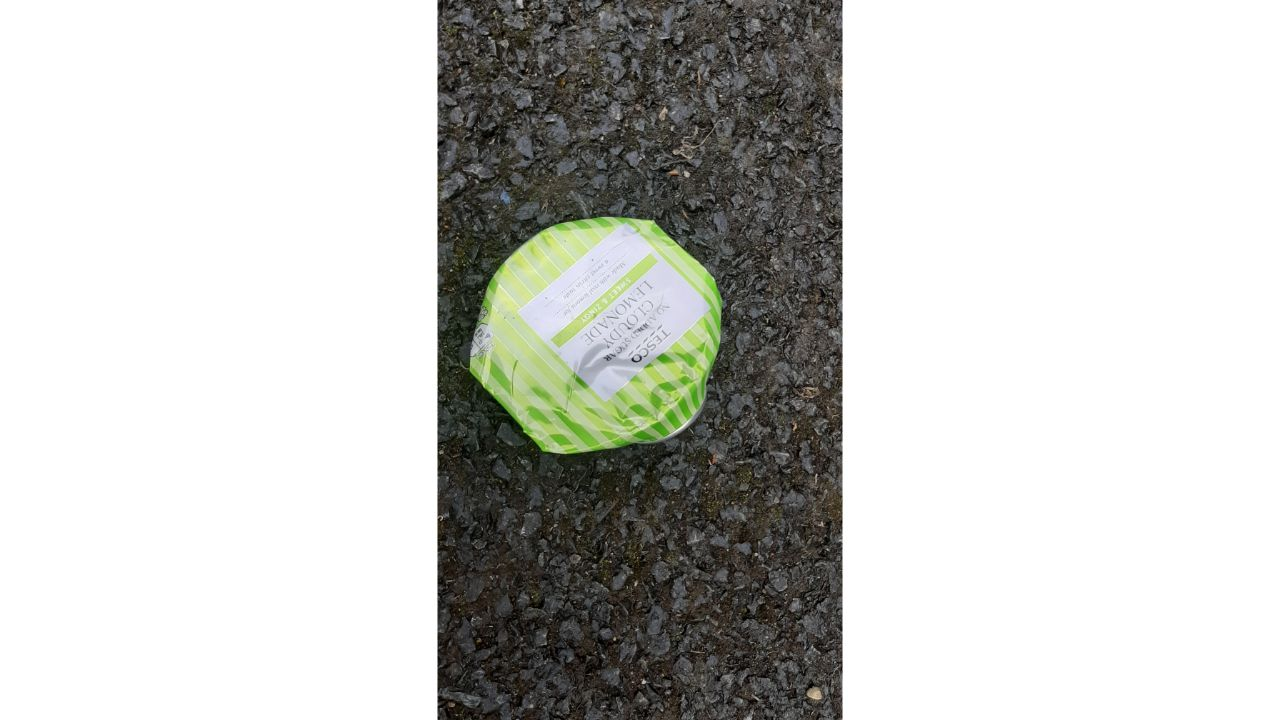Can: (466, 216, 723, 457)
